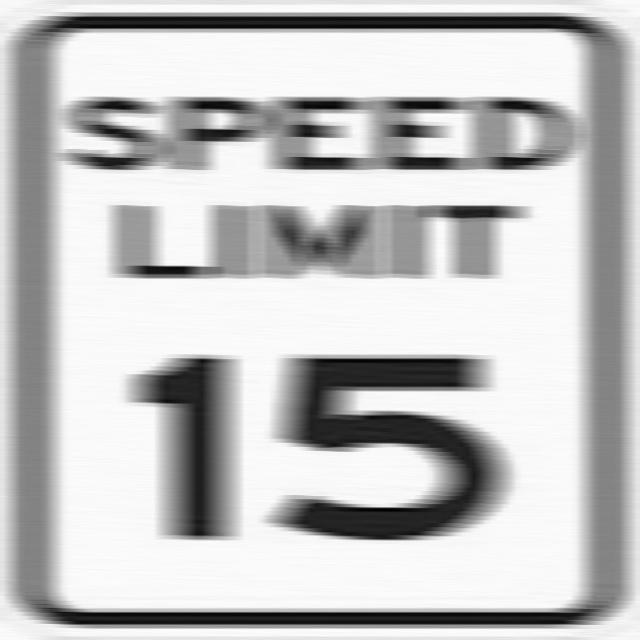speedLimit15: (4, 10, 630, 622)
